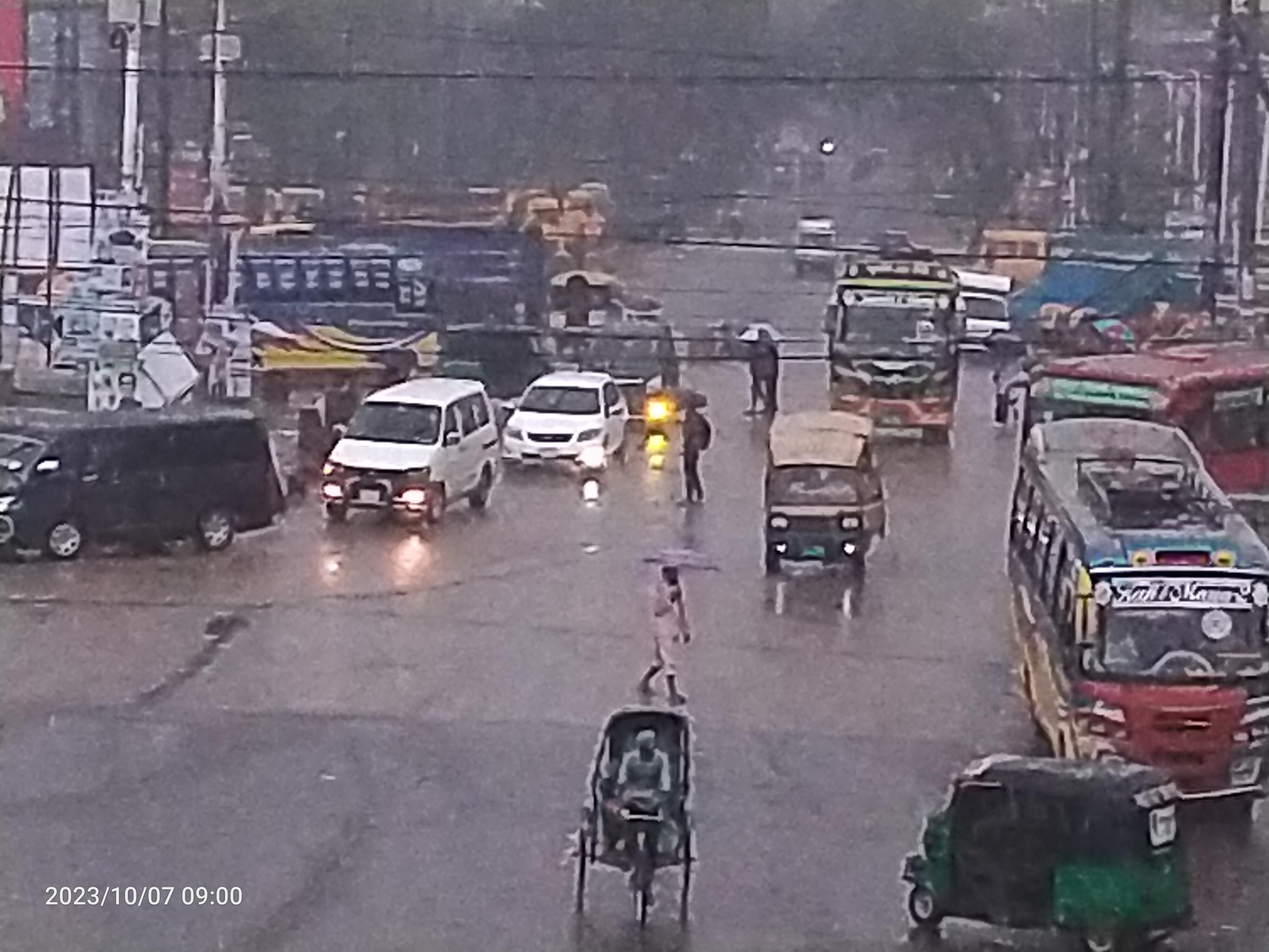Bus: (983, 397, 1269, 842), (997, 319, 1269, 538), (153, 211, 485, 382), (817, 229, 985, 465)
Car: (0, 374, 329, 607), (316, 338, 536, 571), (541, 671, 710, 946), (482, 361, 671, 507), (777, 211, 855, 276)
